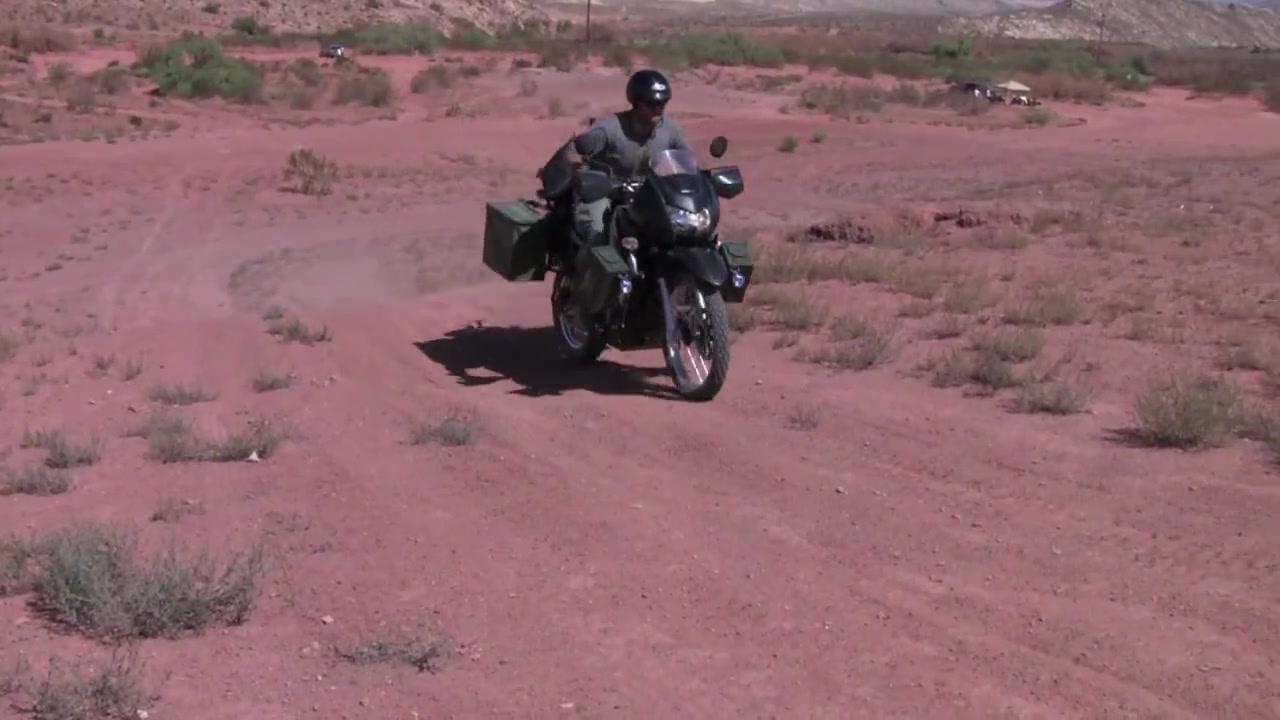motorbike: (539, 133, 758, 408)
